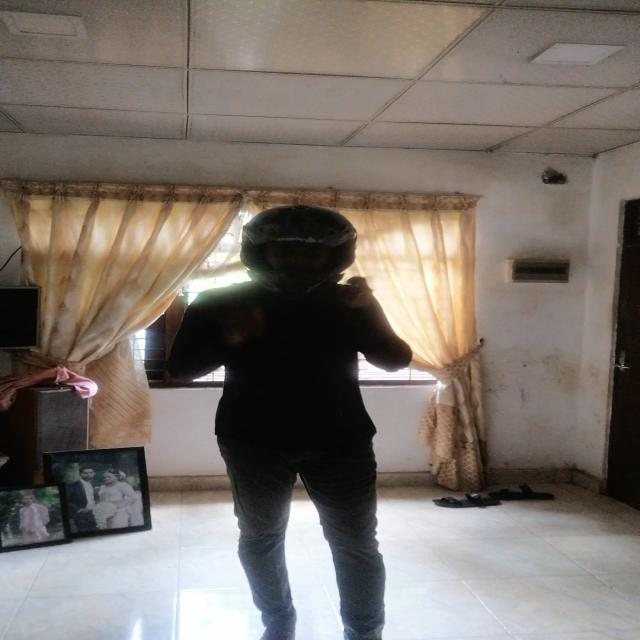Helmet_Wearer: (219, 199, 366, 303)
Person: (169, 213, 431, 609)
